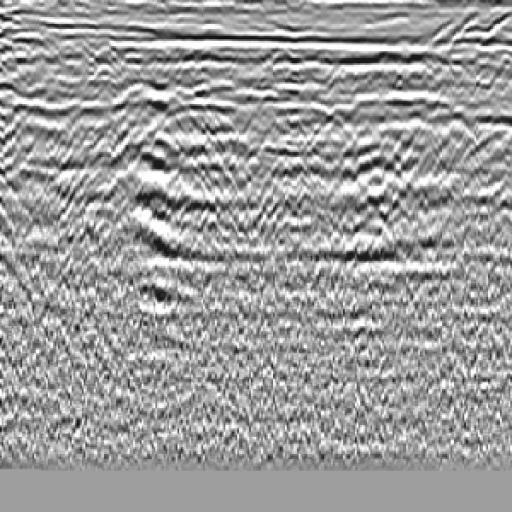metalic: (104, 56, 211, 169)
